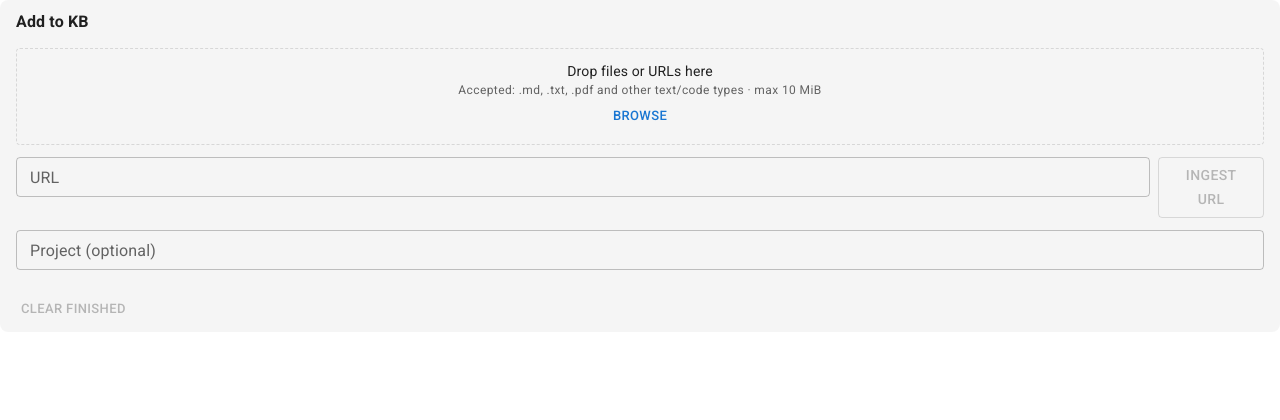
Scenario: AddToKbPanel › Enter in the URL field submits, clears the field and queues a job
In the field labelled "URL": (583, 177) [16,157,1150,197], type "https://typed.example"
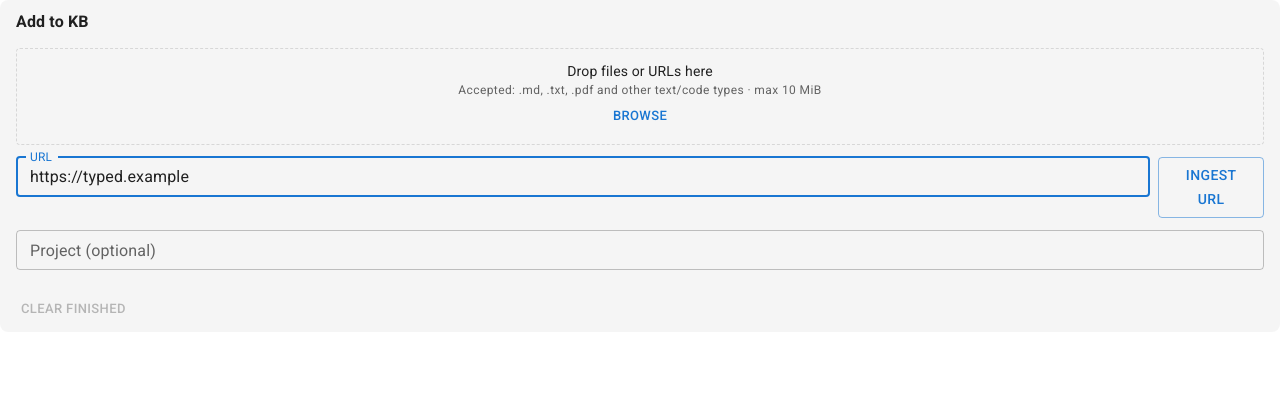
Press Enter
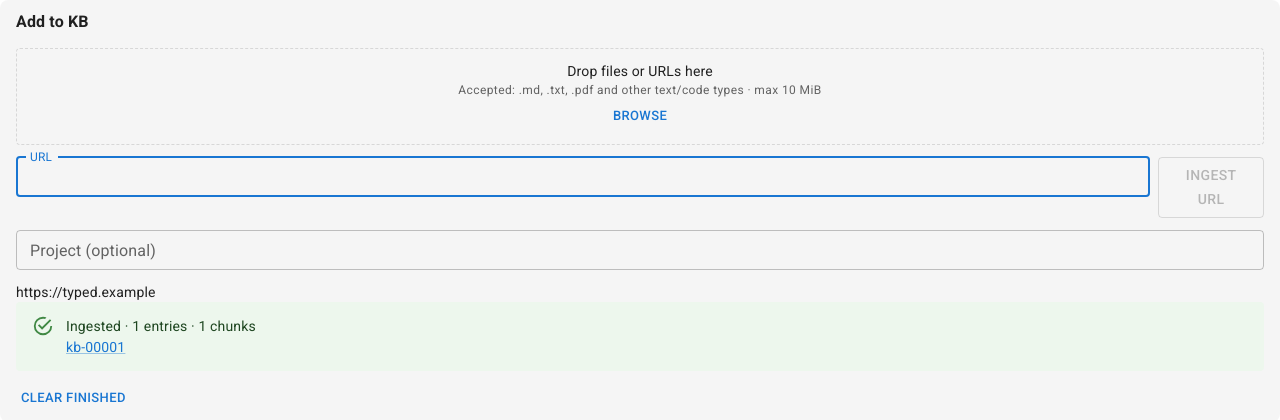
Check: the field labelled "URL" is empty, box [16,157,1150,197]
Check: the text "https://typed.example" is shown, box [16,284,156,300]
